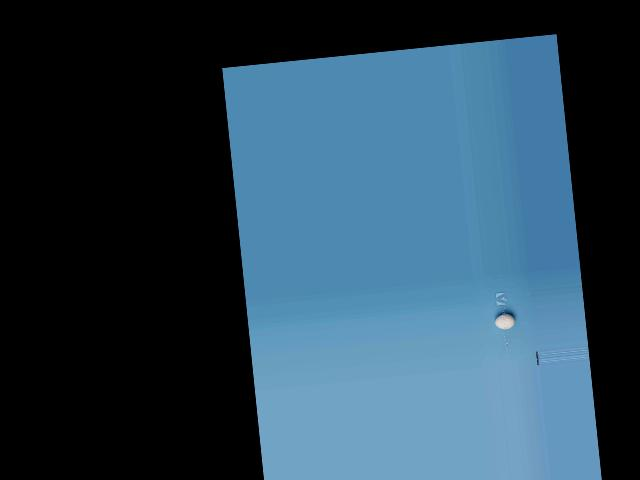egg: (495, 313, 515, 330)
